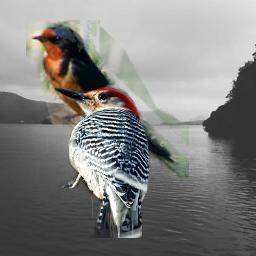Swallow: (26, 20, 189, 178)
Woodpecker: (48, 79, 155, 238)
